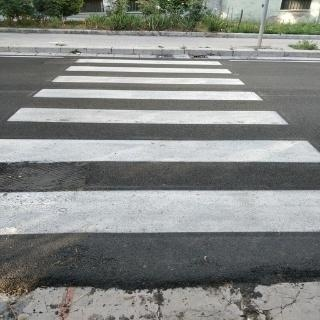road_crosswalk: (2, 54, 317, 256)
